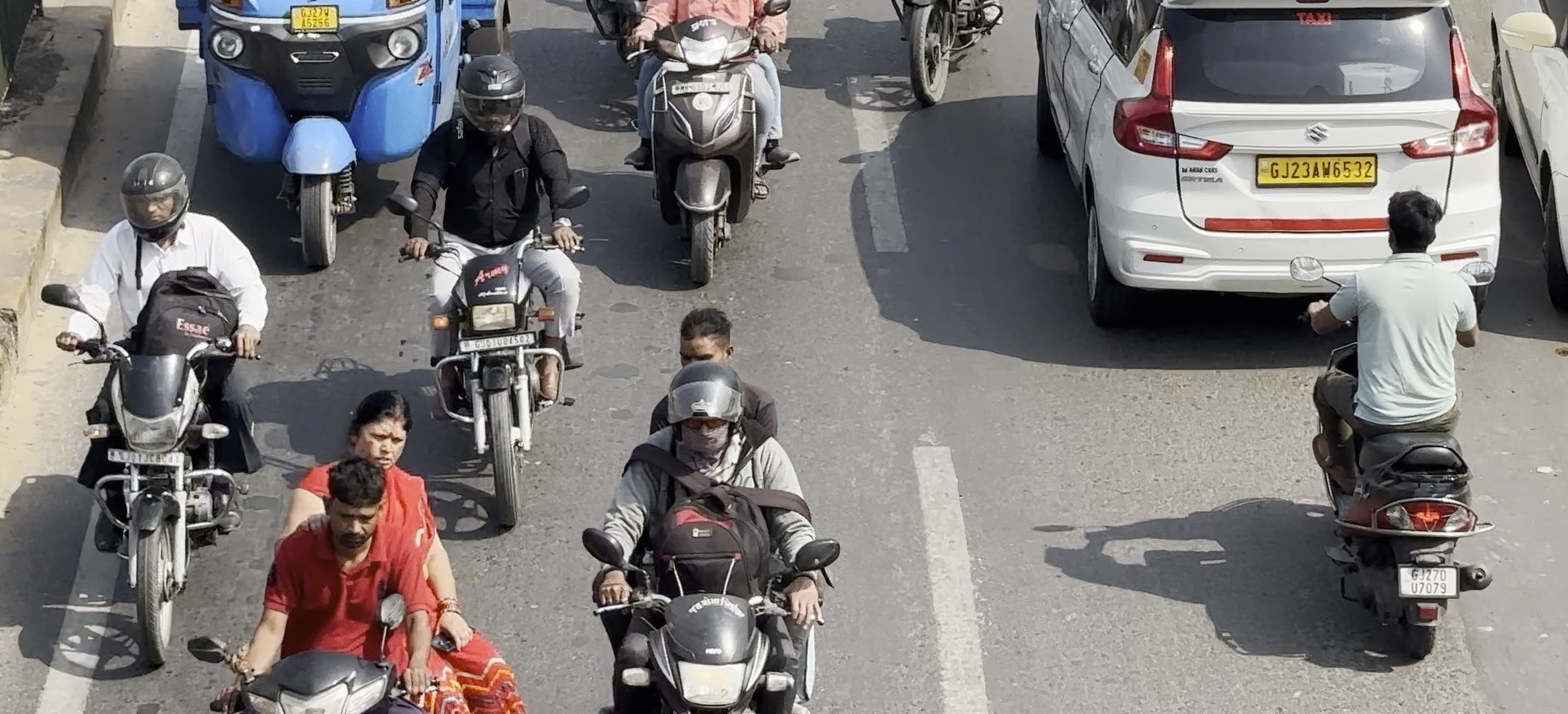BikeWithRider: (30, 142, 270, 665), (183, 380, 535, 714), (575, 303, 845, 714), (377, 45, 594, 530), (1285, 182, 1501, 661)
Helmet: (662, 355, 753, 465), (114, 146, 198, 243), (449, 49, 533, 146)
NoHelmet: (346, 384, 423, 476), (320, 458, 388, 557), (1374, 186, 1448, 271), (674, 306, 746, 370)
